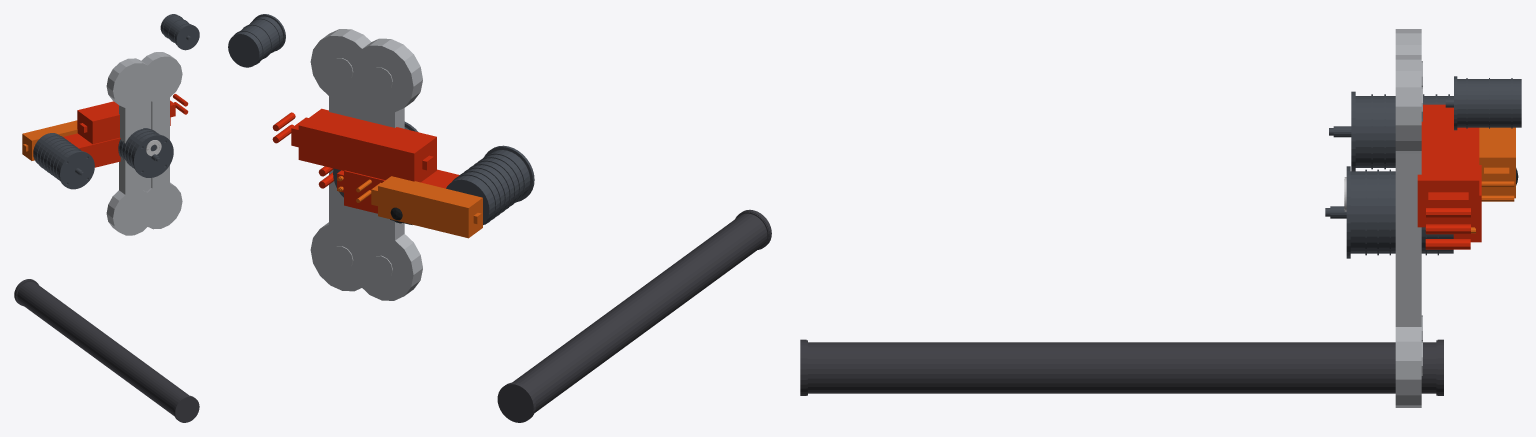
The model's file is gen79.glb.
The picture shows the model from 3 angles, left to right: view 1: azimuth 30°, elevation 25°; view 2: azimuth 150°, elevation 25°; view 3: azimuth 270°, elevation 25°; orthographic projection. The views are drawn at different scales.
Parts seen in each view (by area): view 1: alloy_chassis_46010e8b_x_x, carbon_tube_fb4a1dca, brushless_motor_dac1ba68_x_x, brushless_motor_dac1ba68_x_x_x_x, high_power_lipo_53606a64, high_power_lipo_4b6909da, brushless_motor_compact_84b8d6d2_x_x, compact_lipo_73f04445_x_x; view 2: alloy_chassis_46010e8b_x_x, carbon_tube_fb4a1dca, high_power_lipo_53606a64, compact_lipo_73f04445_x_x, brushless_motor_dac1ba68_x_x, brushless_motor_compact_84b8d6d2_x_x, high_power_lipo_4b6909da; view 3: carbon_tube_fb4a1dca, alloy_chassis_46010e8b_x_x, high_power_lipo_53606a64, brushless_motor_dac1ba68_x_x_x_x, brushless_motor_dac1ba68_x_x, brushless_motor_compact_84b8d6d2_x_x, compact_lipo_73f04445_x_x, high_power_lipo_4b6909da.
Part boxes in pixels (left/top/right/bottom): alloy_chassis_46010e8b_x_x: left=106, top=52, right=182, bottom=235; carbon_tube_fb4a1dca: left=14, top=279, right=199, bottom=422; brushless_motor_dac1ba68_x_x: left=33, top=133, right=94, bottom=189; brushless_motor_dac1ba68_x_x_x_x: left=118, top=128, right=173, bottom=177; high_power_lipo_53606a64: left=77, top=94, right=188, bottom=144; high_power_lipo_4b6909da: left=63, top=133, right=120, bottom=167; brushless_motor_compact_84b8d6d2_x_x: left=160, top=14, right=199, bottom=50; compact_lipo_73f04445_x_x: left=22, top=120, right=77, bottom=160; alloy_chassis_46010e8b_x_x: left=310, top=29, right=422, bottom=300; carbon_tube_fb4a1dca: left=497, top=209, right=771, bottom=422; high_power_lipo_53606a64: left=272, top=108, right=436, bottom=182; compact_lipo_73f04445_x_x: left=356, top=176, right=482, bottom=238; brushless_motor_dac1ba68_x_x: left=446, top=145, right=534, bottom=224; brushless_motor_compact_84b8d6d2_x_x: left=228, top=14, right=285, bottom=67; high_power_lipo_4b6909da: left=318, top=166, right=459, bottom=213; carbon_tube_fb4a1dca: left=800, top=339, right=1443, bottom=395; alloy_chassis_46010e8b_x_x: left=1395, top=29, right=1422, bottom=407; high_power_lipo_53606a64: left=1417, top=104, right=1479, bottom=234; brushless_motor_dac1ba68_x_x_x_x: left=1325, top=166, right=1453, bottom=258; brushless_motor_dac1ba68_x_x: left=1329, top=91, right=1453, bottom=171; brushless_motor_compact_84b8d6d2_x_x: left=1445, top=76, right=1521, bottom=130; compact_lipo_73f04445_x_x: left=1479, top=127, right=1515, bottom=201; high_power_lipo_4b6909da: left=1425, top=165, right=1481, bottom=249.
Bounding box in the file's own units: 0.3374 × 0.407 × 0.5604.
